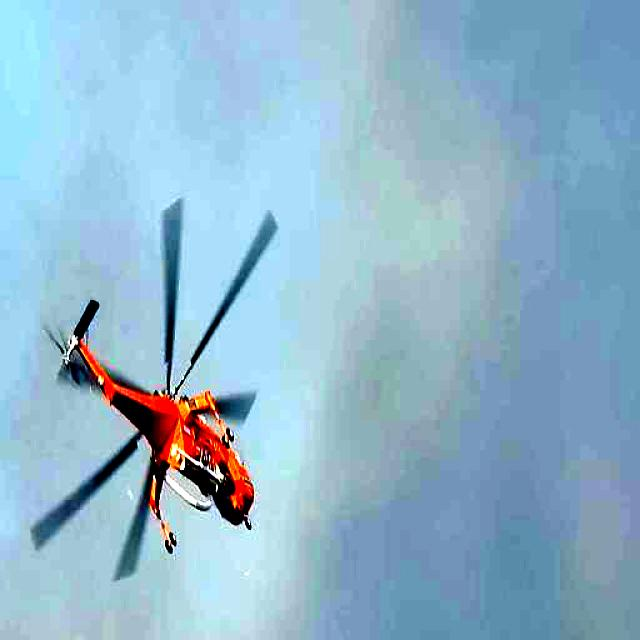drone: (10, 185, 309, 598)
